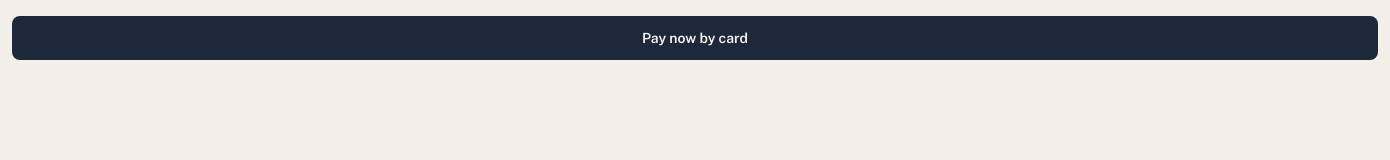
Test: adds the church contact email to the error message
Click the button "Pay now by card" at x=695, y=38, box top-left (12, 16), bottom-right (1378, 60)
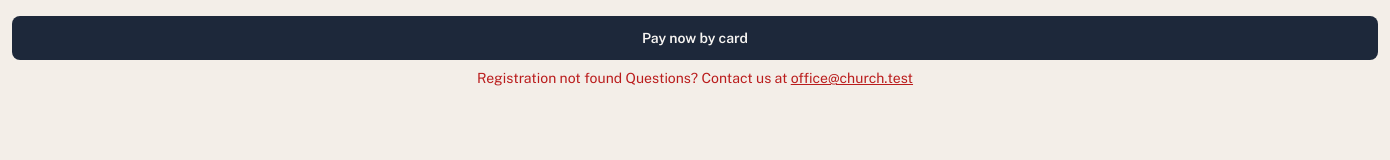
Now the message reads "Registration not found Questions? Contact us at office@church.test", box top-left (477, 70), bottom-right (913, 86)
